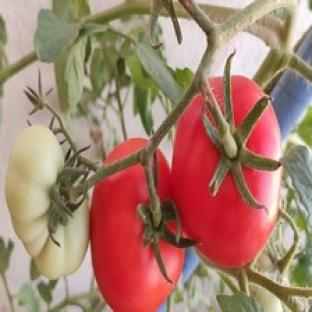Tomato: (172, 95, 281, 267), (91, 165, 183, 311), (6, 126, 89, 279), (251, 285, 282, 311)
